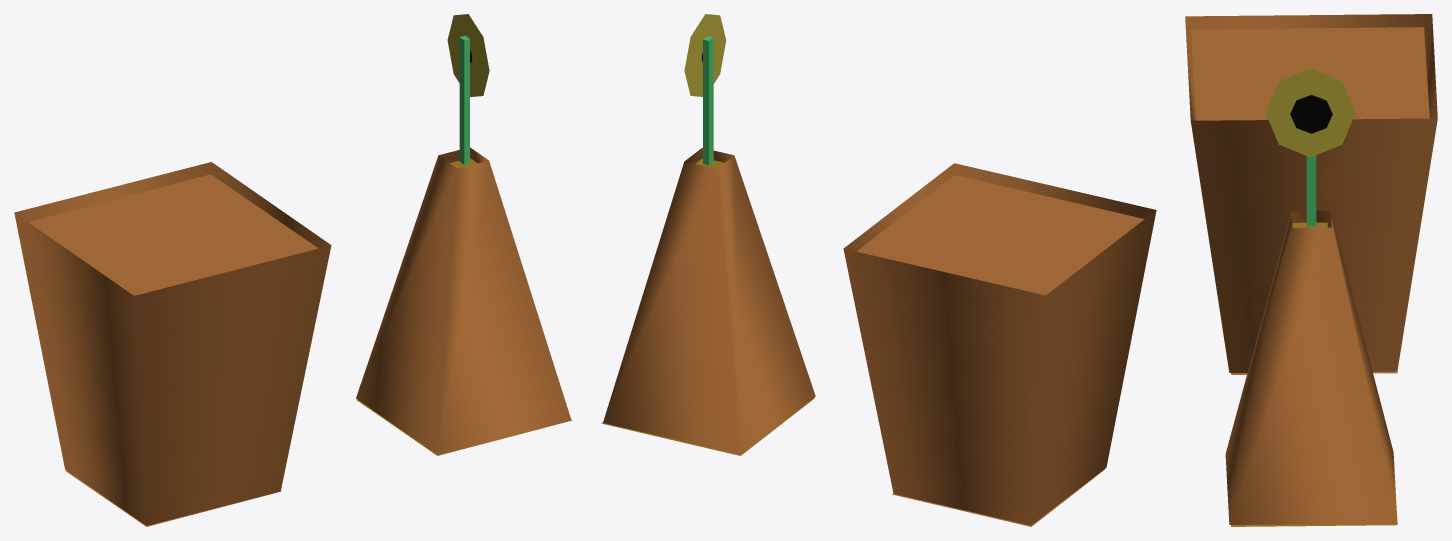
File: pots.gltf
3 renders of one model, left to right at view 1: azimuth 30°, elevation 25°; view 2: azimuth 150°, elevation 25°; view 3: azimuth 270°, elevation 25°, orthographic. The views are drawn at different scales.
Visible parts, largest first — view 1: Cylinder (×2), Plane, Ring, Box; view 2: Cylinder (×2), Plane, Ring, Box; view 3: Cylinder (×2), Plane (×2), Ring (×2), Box.
Boxes of the visible parts, <box> form: Cylinder (×2): <box>14,147,571,525</box>; Plane: <box>28,174,318,295</box>; Ring: <box>447,14,489,96</box>; Box: <box>459,35,469,164</box>; Cylinder (×2): <box>603,148,1156,525</box>; Plane: <box>857,175,1144,295</box>; Ring: <box>684,14,726,96</box>; Box: <box>703,36,713,165</box>; Cylinder (×2): <box>1185,14,1437,524</box>; Plane (×2): <box>1190,27,1429,526</box>; Ring (×2): <box>1266,68,1355,157</box>; Box: <box>1306,155,1316,226</box>.
Size of the model in its own units: 3.28 by 2.68 by 1.45.
